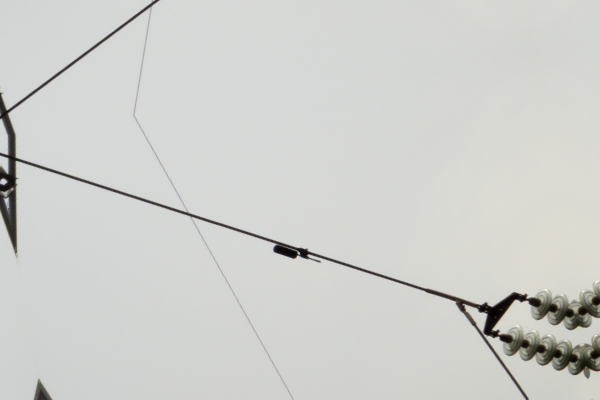damper_defect: (270, 242, 324, 265)
